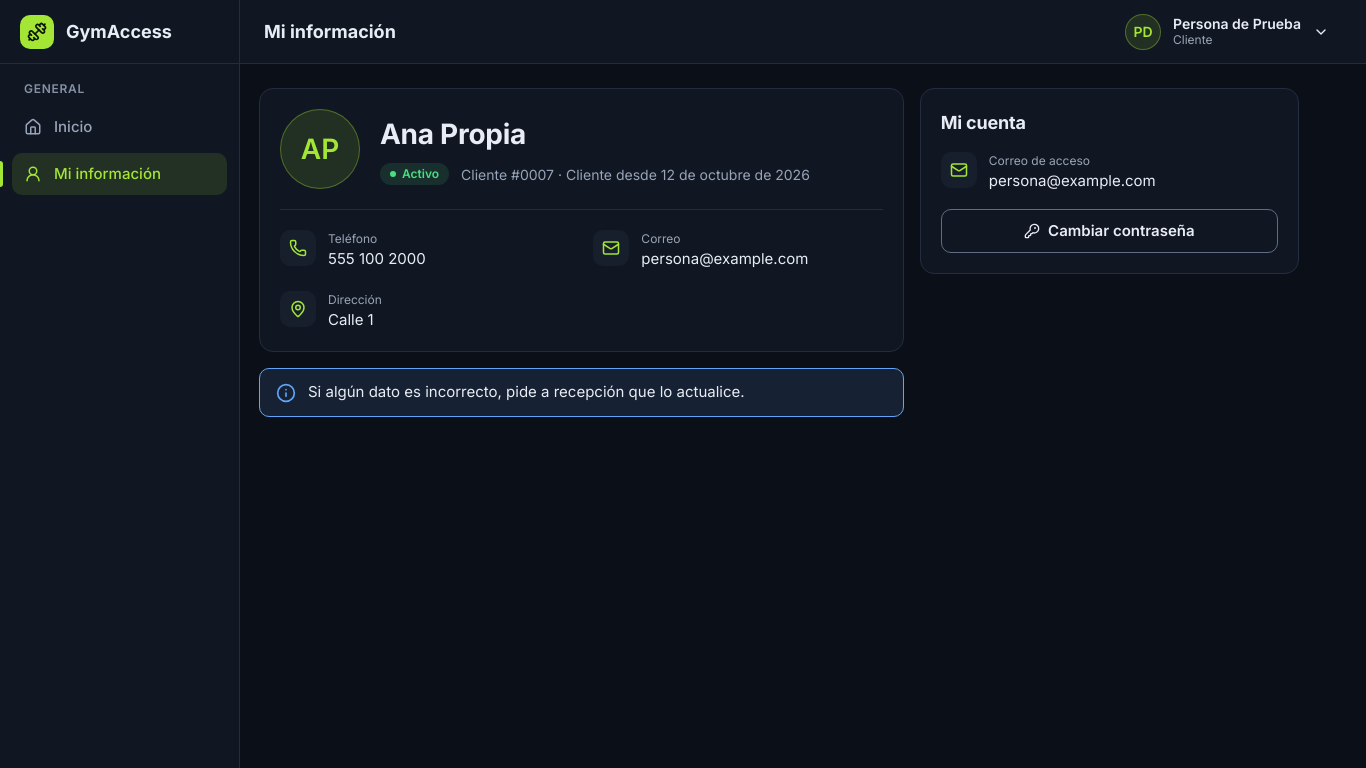
Cambiar contraseña › acceso › el cliente también la tiene en la tarjeta "Mi cuenta", con su correo de acceso
Expected: the text "Correo de acceso" is shown, top-left (989, 153), bottom-right (1090, 168)
Expected: the text "persona@example.com" below "Correo de acceso" is shown, top-left (989, 171), bottom-right (1156, 190)
Step 1. Click the button "Cambiar contraseña" → click(1109, 231), box top-left (941, 208), bottom-right (1278, 253)
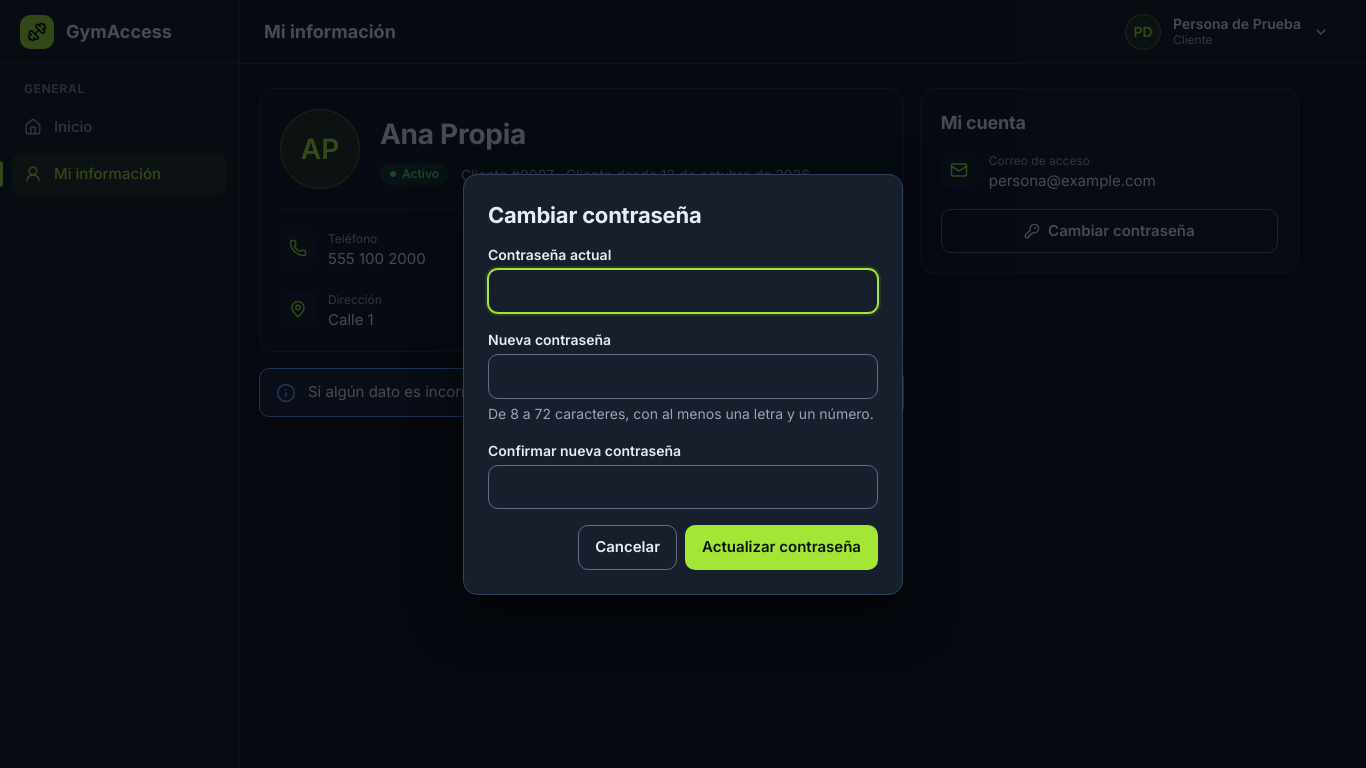
Result: the dialog "Cambiar contraseña" is shown at top-left (463, 174), bottom-right (903, 594)
